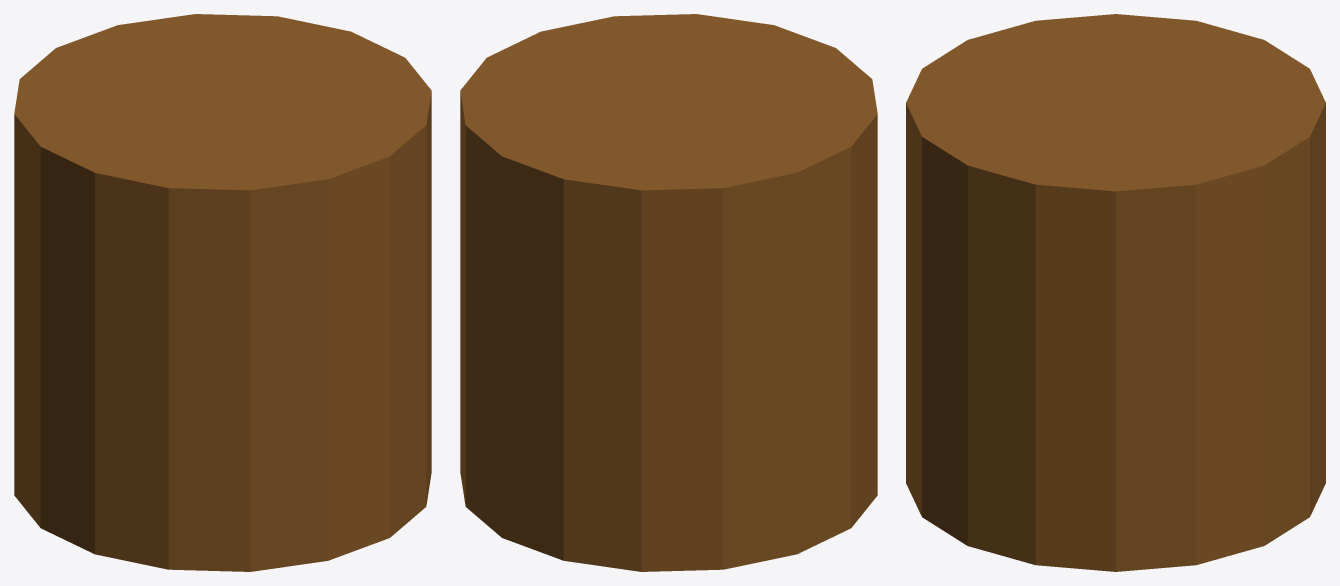
Rendered from TreePiece.fbx.
The picture shows the model from 3 angles, left to right: view 1: azimuth 30°, elevation 25°; view 2: azimuth 150°, elevation 25°; view 3: azimuth 270°, elevation 25°; orthographic projection.
Parts seen in each view (by area): view 1: TreePiece; view 2: TreePiece; view 3: TreePiece.
Boxes of the visible parts, bbox=[...] form: TreePiece: bbox=[14, 14, 431, 571]; TreePiece: bbox=[460, 14, 877, 571]; TreePiece: bbox=[906, 14, 1325, 571].
Bounding box in the file's own units: 40 × 40 × 40.
